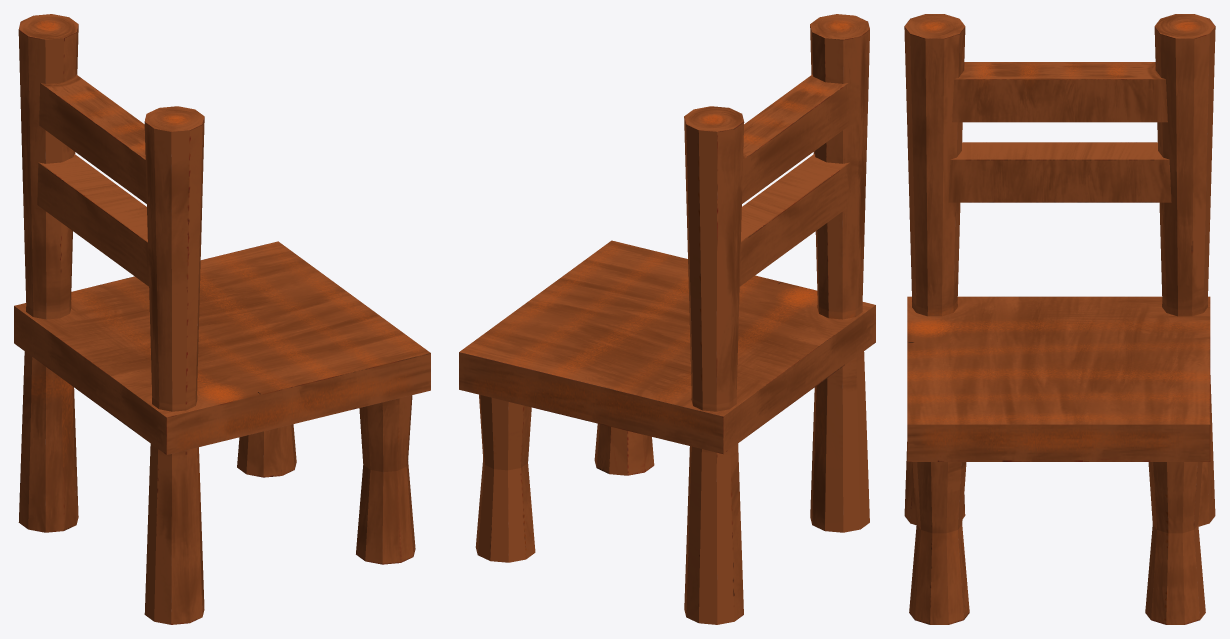
Rendered from SILLA .fbx.
3 views of the same model, side by side, from view 1: azimuth 30°, elevation 25°; view 2: azimuth 150°, elevation 25°; view 3: azimuth 270°, elevation 25° (orthographic).
Parts seen in each view (by area): view 1: SILLA_02; view 2: SILLA_02; view 3: SILLA_02.
Part boxes in pixels (x1,y1,x2,y2): SILLA_02: [14, 14, 430, 624]; SILLA_02: [459, 14, 875, 624]; SILLA_02: [904, 14, 1215, 624].
Size of the model in its own units: 65.3 by 115 by 66.2.
